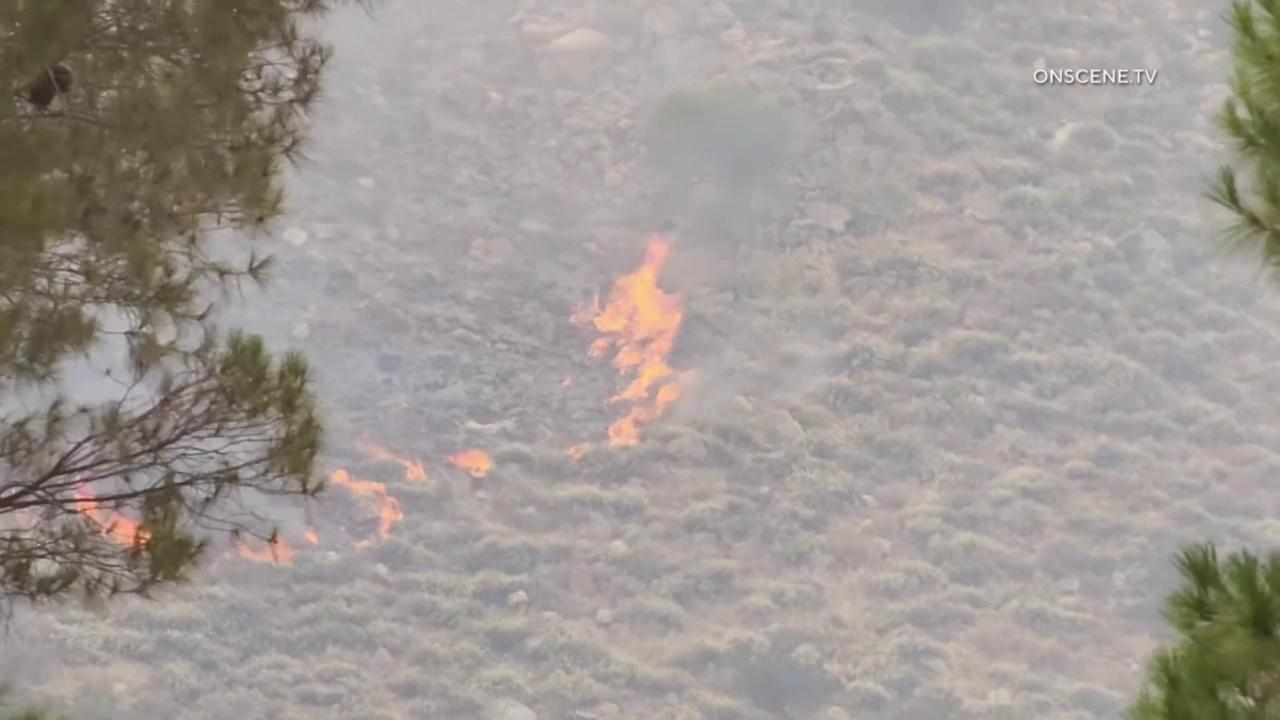fire: (565, 227, 690, 447), (69, 472, 157, 551), (322, 467, 406, 549), (348, 440, 431, 484), (233, 531, 301, 571), (447, 447, 498, 483), (560, 441, 591, 462), (302, 528, 323, 548)
smoke: (0, 0, 1280, 720)
